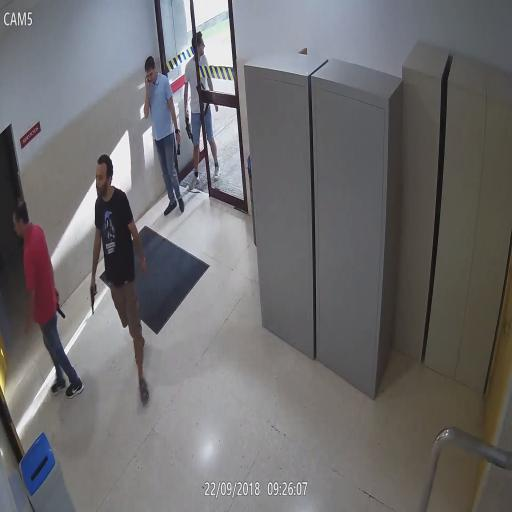Handgun: (54, 288, 66, 320), (88, 278, 98, 316)
